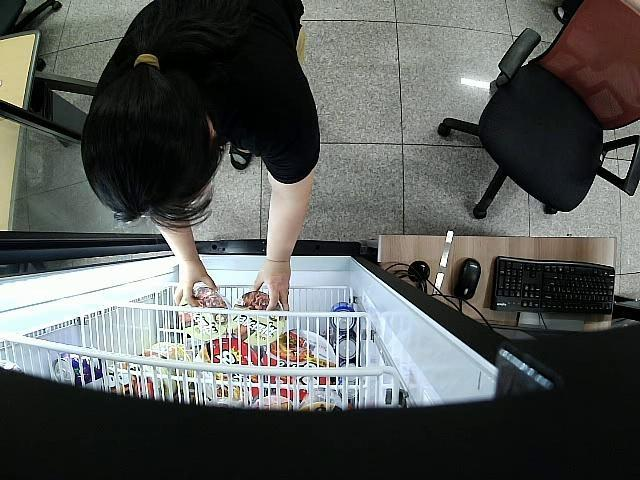03_chapagetti_L: (232, 290, 286, 347), (178, 287, 229, 342)
